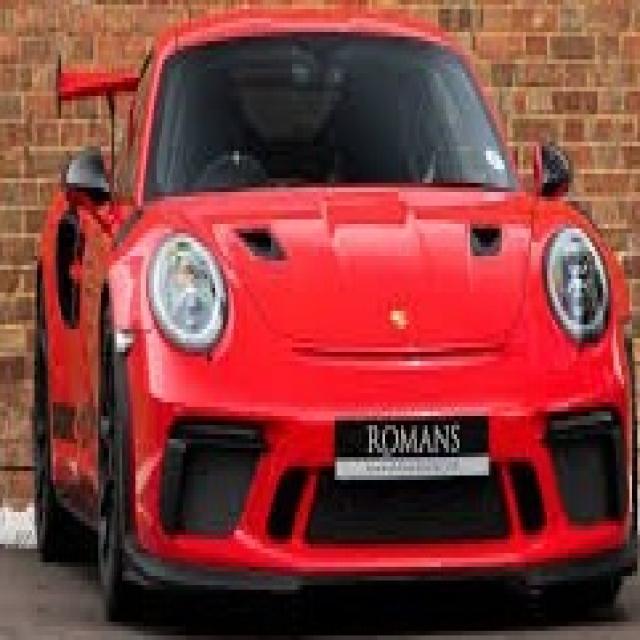red: (48, 4, 640, 572)
